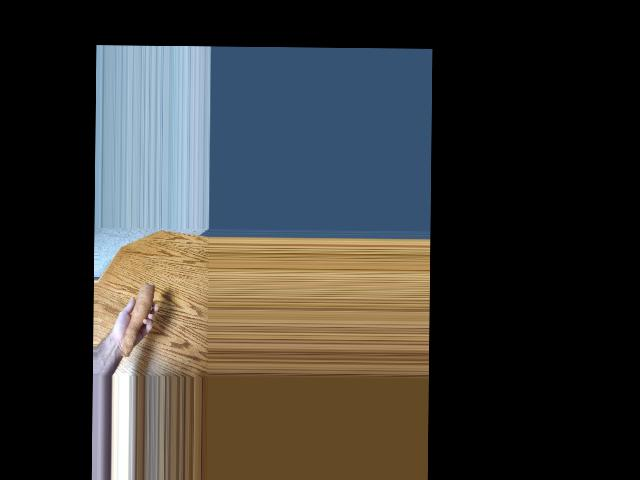sweet_potato: (119, 283, 156, 355)
